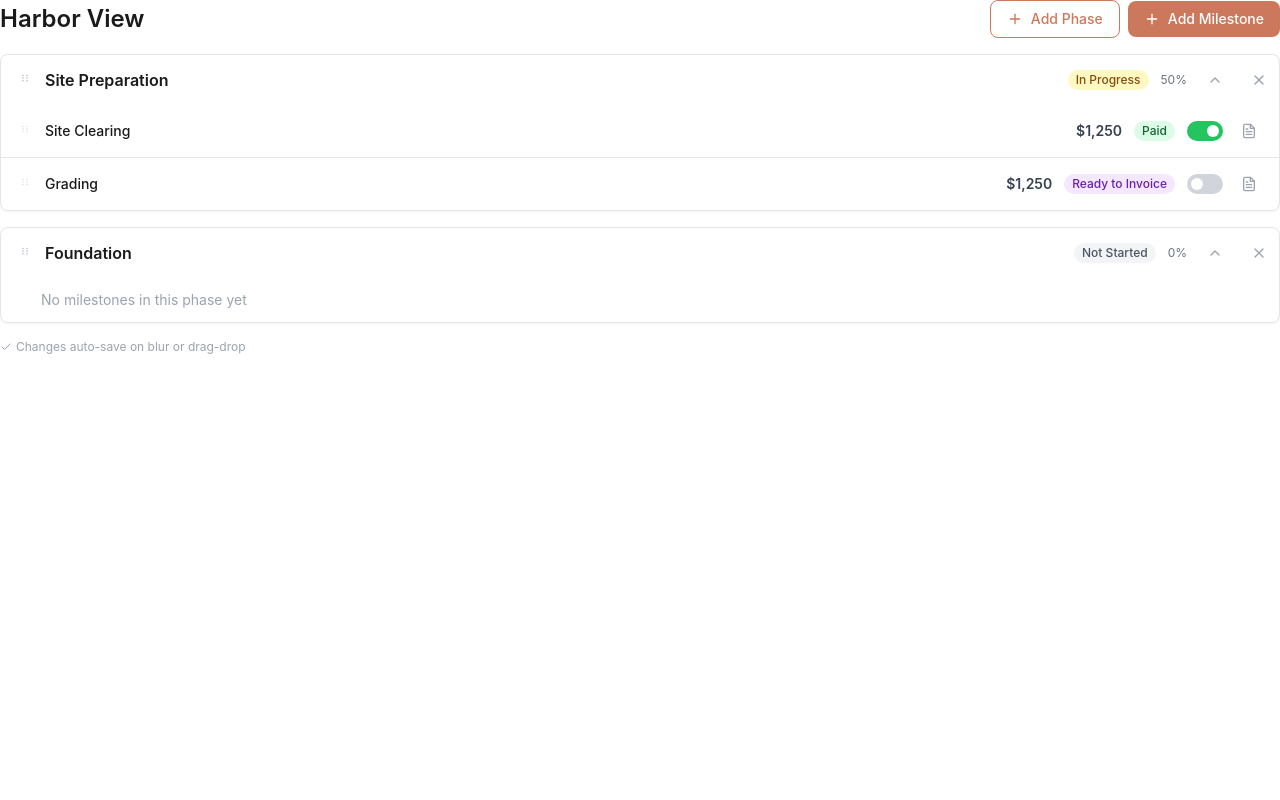
ScheduleBuilderPage › shows the Add Phase modal when Add Phase button is clicked
The image size is (1280, 800).
Click the button labelled "Add Phase" at (1055, 19), box [990, 0, 1120, 38]
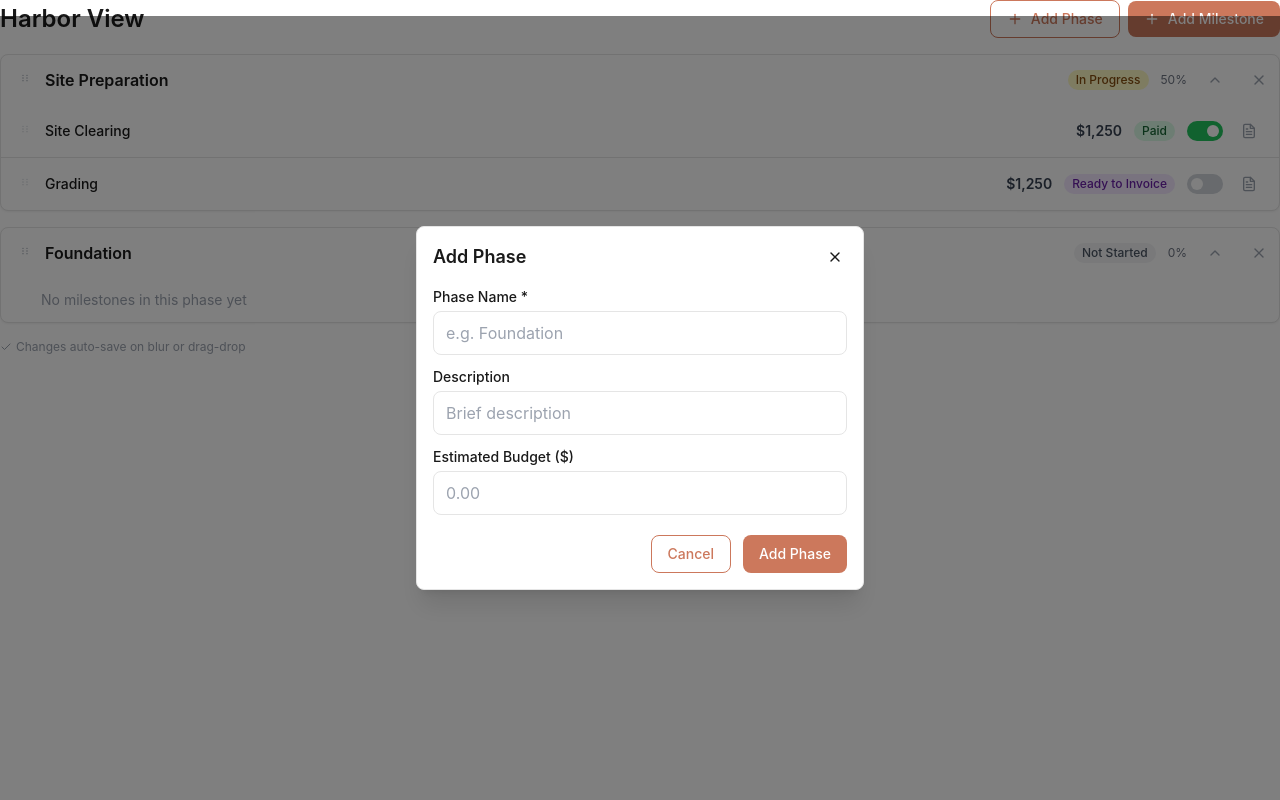
Expected: the dialog is shown
Expected: the field labelled "Phase Name *" is shown, [433, 311, 847, 355]
Expected: the field labelled "Description" is shown, [433, 391, 847, 435]
